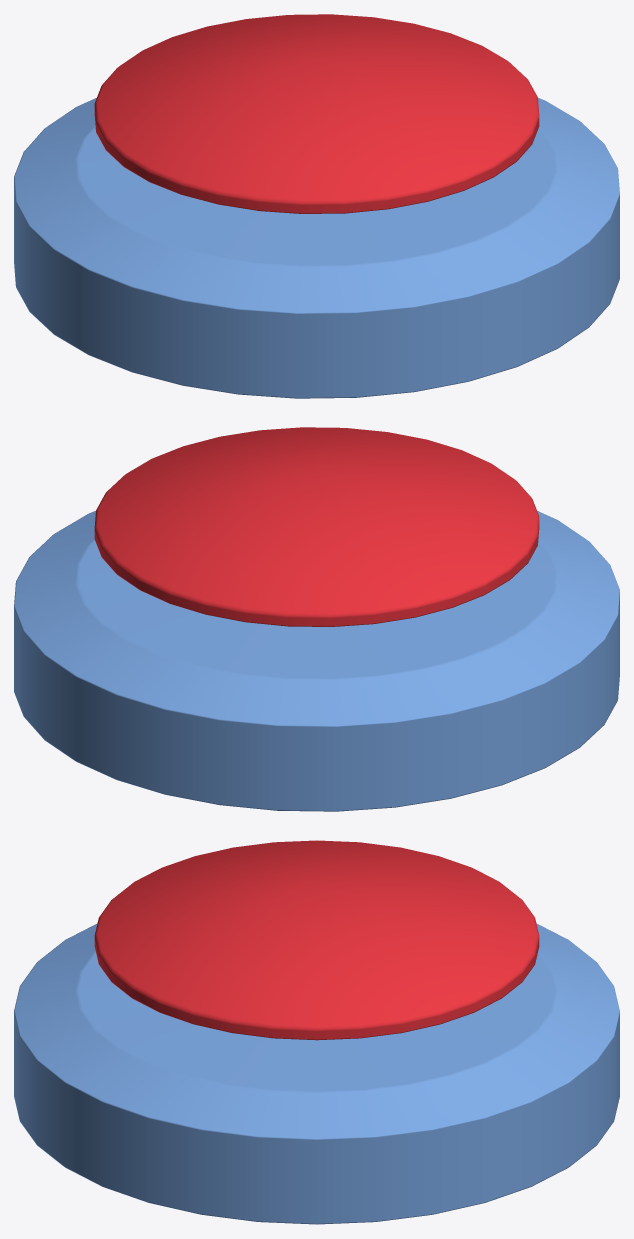
The model's file is ButtonFilterPrefab.glb.
3 renders of one model, top to bottom at view 1: azimuth 30°, elevation 25°; view 2: azimuth 150°, elevation 25°; view 3: azimuth 270°, elevation 25°, orthographic.
Parts seen in each view (by area): view 1: ButtonFilterPrefab, trigger; view 2: ButtonFilterPrefab, trigger; view 3: ButtonFilterPrefab, trigger.
Part boxes in pixels (<box>): ButtonFilterPrefab: <box>14,98,619,398</box>; trigger: <box>94,14,539,213</box>; ButtonFilterPrefab: <box>14,511,619,811</box>; trigger: <box>94,427,539,626</box>; ButtonFilterPrefab: <box>14,924,619,1224</box>; trigger: <box>94,840,539,1040</box>.
Size of the model in its own units: 3.14 by 1.08 by 3.14.
